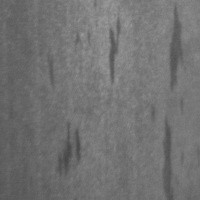inclusion: (161, 2, 192, 94), (100, 9, 131, 89), (156, 110, 182, 199), (53, 119, 85, 185), (40, 43, 64, 102), (71, 30, 95, 56)
